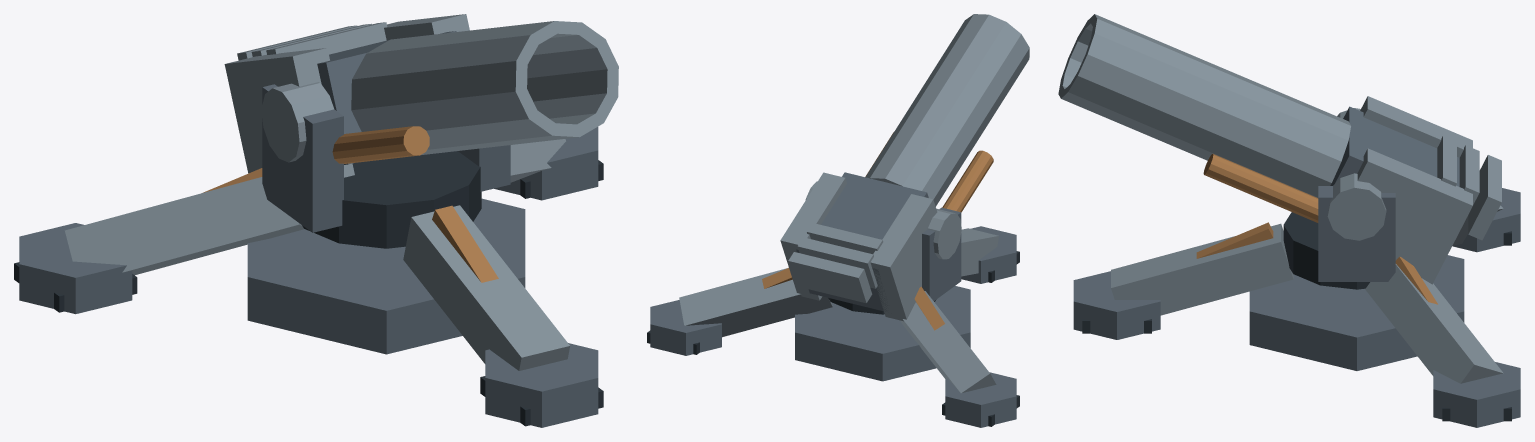
Rendered from howitzer_t2_d0.glb.
3 renders of one model, left to right at view 1: azimuth 30°, elevation 25°; view 2: azimuth 150°, elevation 25°; view 3: azimuth 270°, elevation 25°, orthographic. The views are drawn at different scales.
Parts seen in each view (by area): view 1: BASE_ARMOR_GEOMETRY, RECOIL_ARMOR_GEOMETRY, YAW_ARMOR_GEOMETRY; view 2: RECOIL_ARMOR_GEOMETRY, BASE_ARMOR_GEOMETRY, YAW_ARMOR_GEOMETRY; view 3: RECOIL_ARMOR_GEOMETRY, BASE_ARMOR_GEOMETRY, YAW_ARMOR_GEOMETRY.
Part boxes in pixels (left/top/right/bottom): BASE_ARMOR_GEOMETRY: left=14, top=127, right=603, bottom=427; RECOIL_ARMOR_GEOMETRY: left=224, top=14, right=618, bottom=177; YAW_ARMOR_GEOMETRY: left=262, top=84, right=510, bottom=248; RECOIL_ARMOR_GEOMETRY: left=780, top=14, right=1029, bottom=321; BASE_ARMOR_GEOMETRY: left=647, top=226, right=1019, bottom=427; YAW_ARMOR_GEOMETRY: left=828, top=207, right=961, bottom=314; RECOIL_ARMOR_GEOMETRY: left=1058, top=14, right=1501, bottom=284; BASE_ARMOR_GEOMETRY: left=1073, top=188, right=1520, bottom=427; YAW_ARMOR_GEOMETRY: left=1283, top=186, right=1395, bottom=289.
Size of the model in its own units: 3.33 by 2.17 by 2.99.
